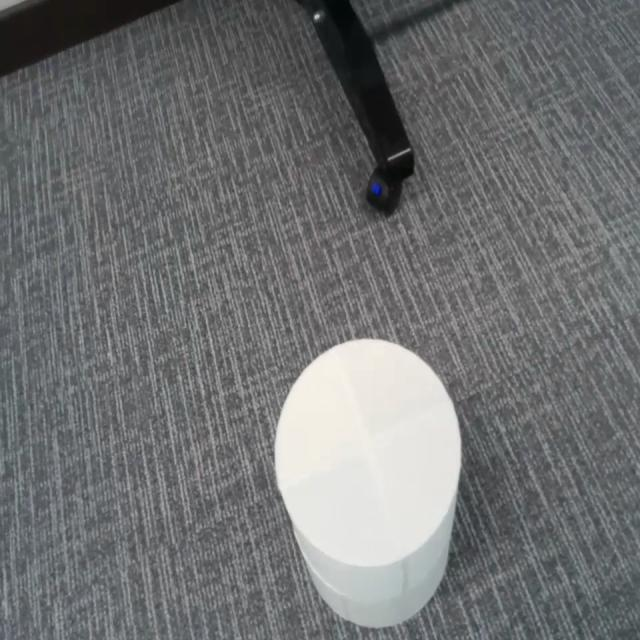cylinder: (271, 337, 463, 630)
